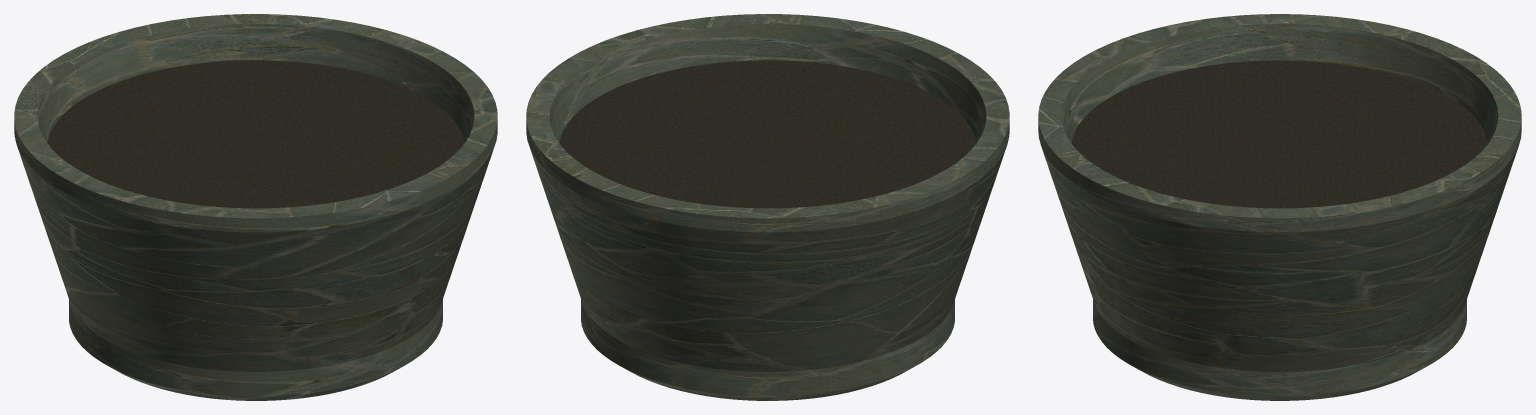
The model's file is furn_com_planter.dae.
The picture shows the model from 3 angles, left to right: view 1: azimuth 30°, elevation 25°; view 2: azimuth 150°, elevation 25°; view 3: azimuth 270°, elevation 25°; orthographic projection.
Visible parts, largest first — view 1: stone, soil; view 2: stone, soil; view 3: stone, soil.
Boxes of the visible parts, left/top/right/bottom form: stone: left=14, top=14, right=497, bottom=400; soil: left=47, top=60, right=464, bottom=208; stone: left=526, top=14, right=1009, bottom=400; soil: left=559, top=60, right=976, bottom=208; stone: left=1038, top=14, right=1521, bottom=400; soil: left=1071, top=60, right=1488, bottom=208.
Bounding box in the file's own units: 62 × 62 × 30.04.
